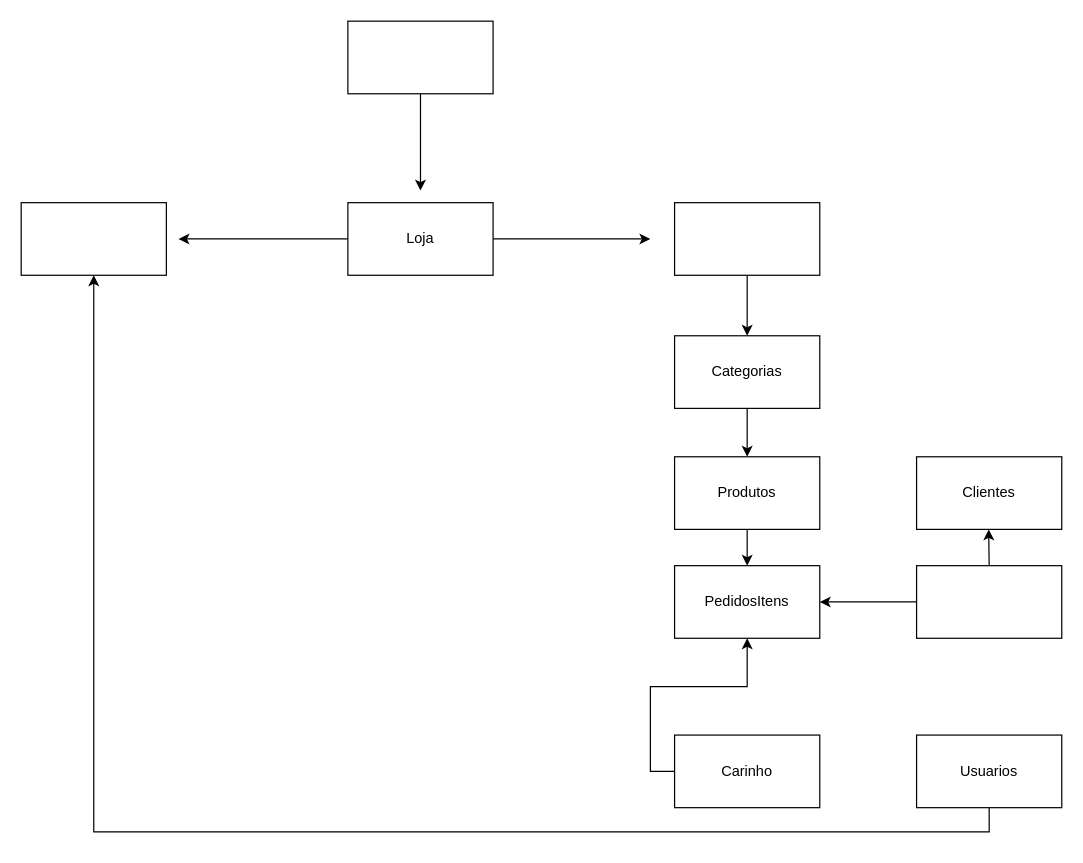
The diagram is 1083 pixels wide and 863 high, and some of its shapes have lost their labels. The shapes that lost their labels are listed below. From the top down, each one's box as (x1, y1, x2, y2) in pixels, then its label:
(347, 20, 493, 94): Proprietario
(20, 201, 166, 275): Funcionarios
(673, 201, 820, 275): Cardapio
(915, 564, 1062, 638): Pedidos
